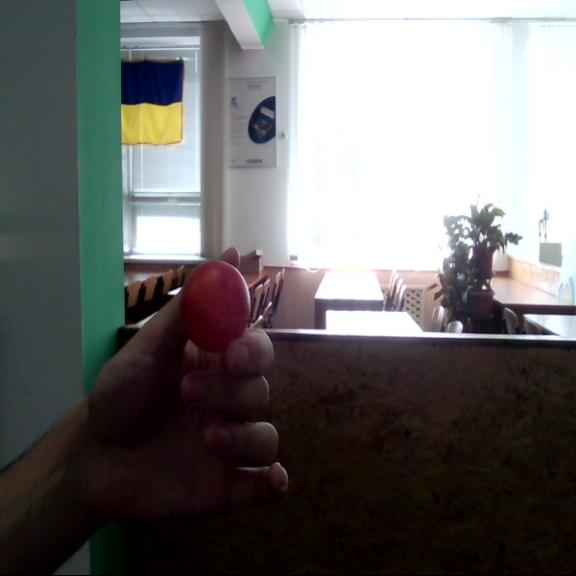ball: (186, 259, 250, 347)
